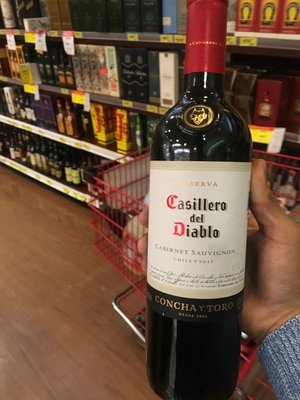casillero del diablo cabernet sauvignon: (138, 3, 255, 400)
